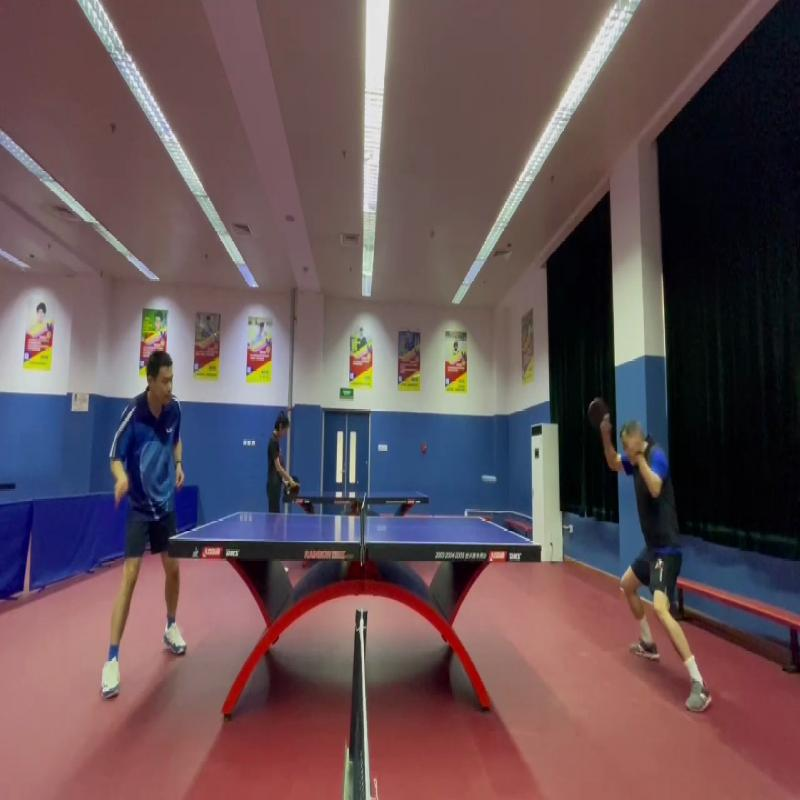bats: (107, 462, 142, 514)
